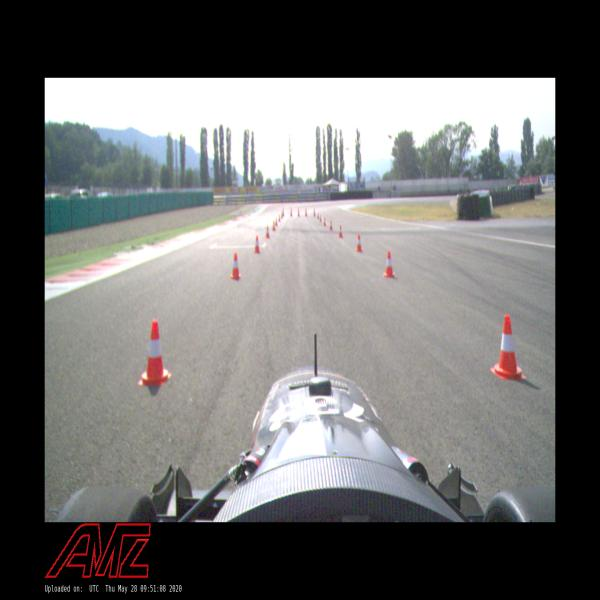large_orange_cone: (281, 207, 285, 217), (297, 207, 300, 216), (305, 208, 308, 216), (313, 208, 316, 216), (290, 208, 292, 216)
orange_cone: (489, 314, 527, 379), (140, 319, 171, 388), (382, 250, 396, 278), (230, 252, 241, 280), (354, 234, 363, 252), (253, 236, 261, 252), (265, 225, 270, 239), (338, 225, 343, 238), (271, 221, 276, 231), (329, 220, 333, 230), (323, 217, 327, 226), (274, 218, 278, 226), (278, 214, 281, 222), (280, 212, 283, 219), (320, 215, 322, 222), (317, 213, 319, 218)
